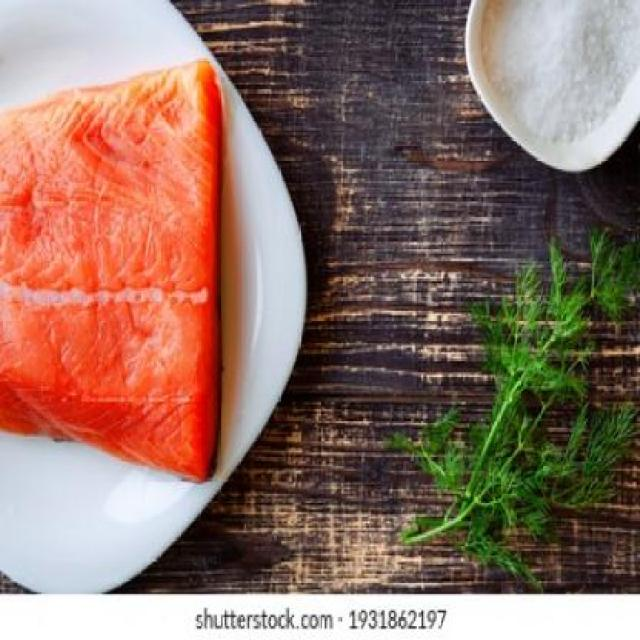salmon: (2, 57, 255, 491)
